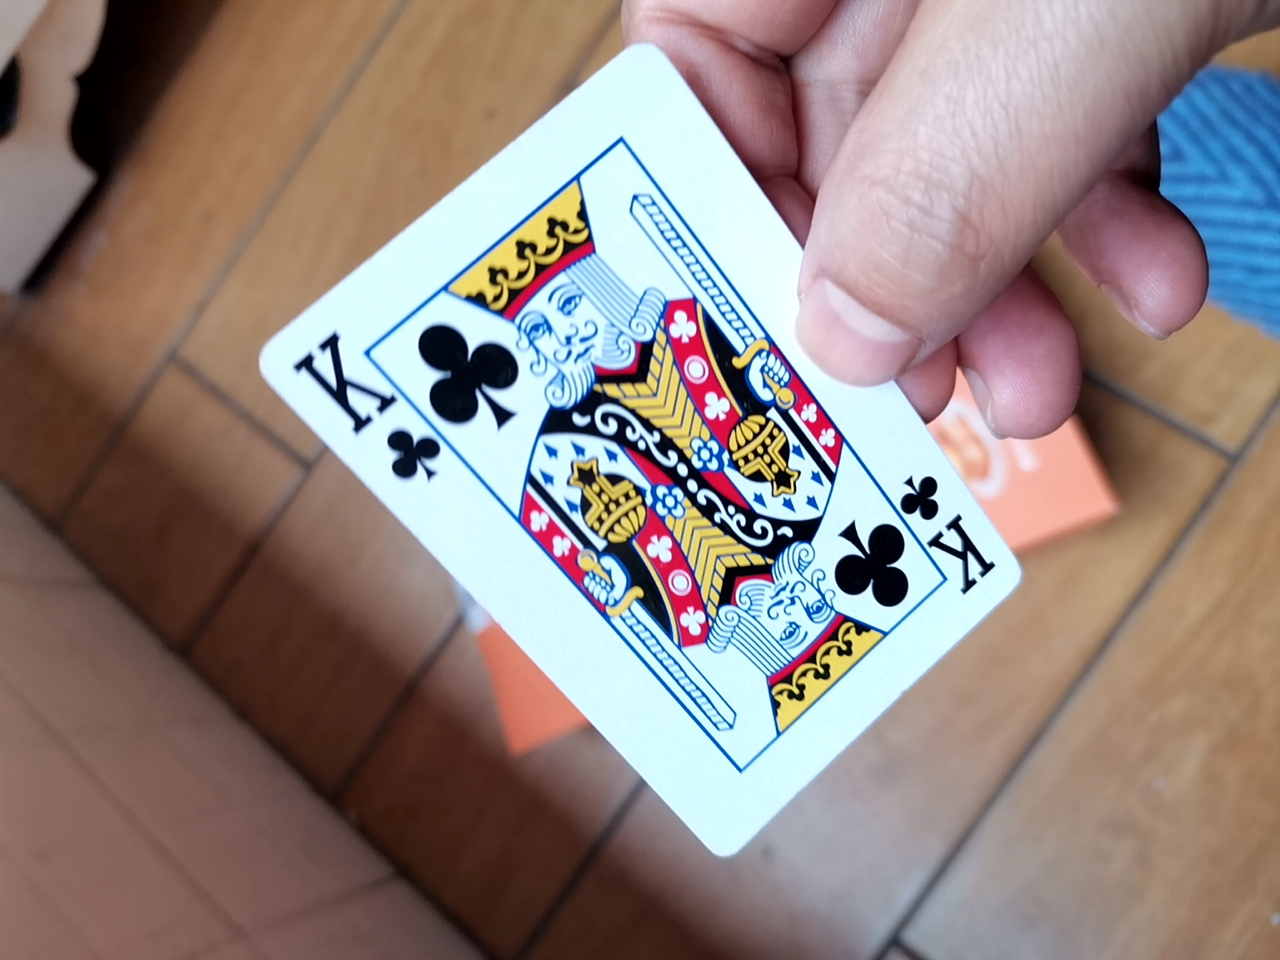mh k: (238, 23, 1033, 903)
